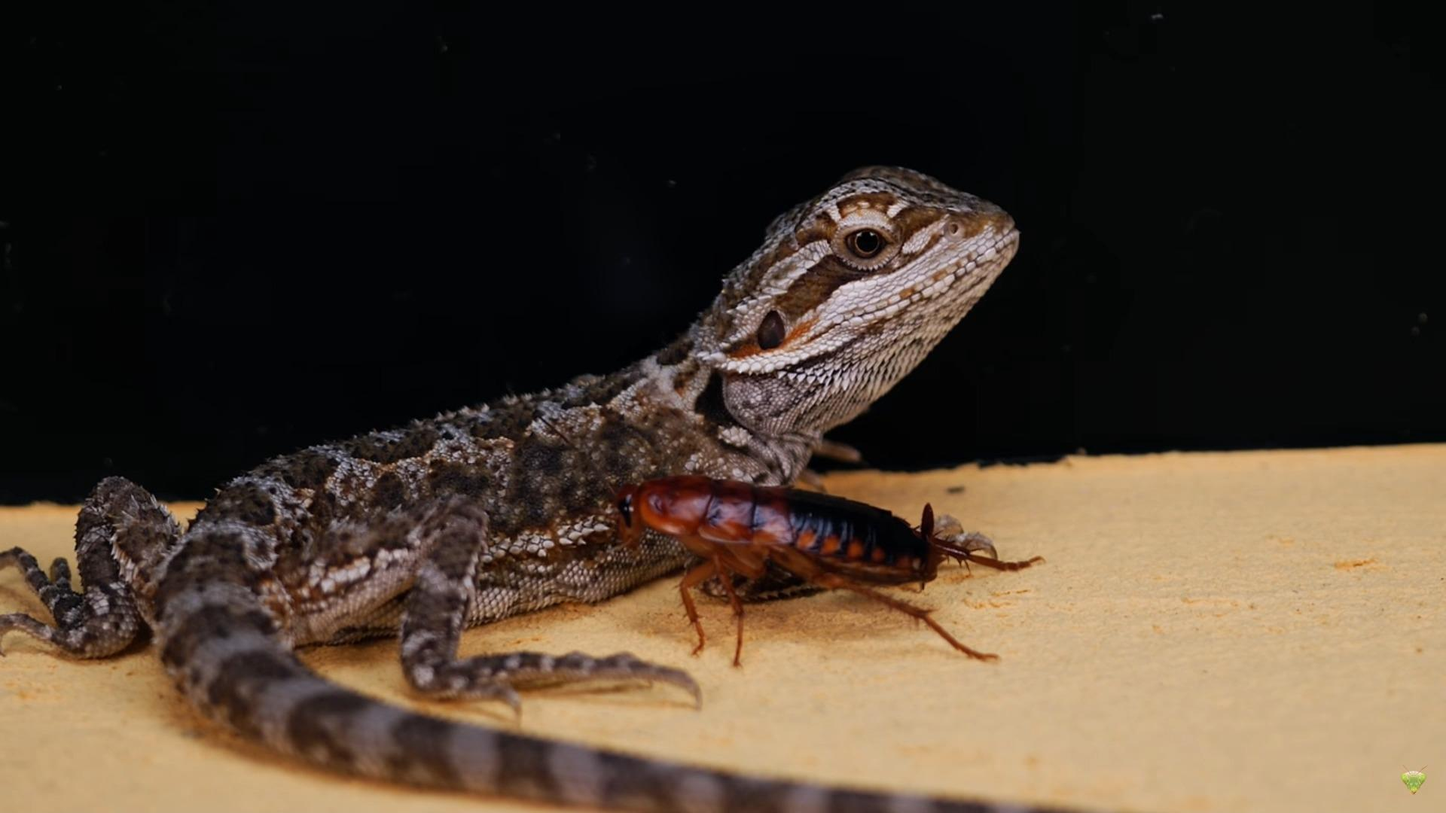cockroach: (592, 434, 1029, 685)
lizard: (36, 146, 1028, 787)
